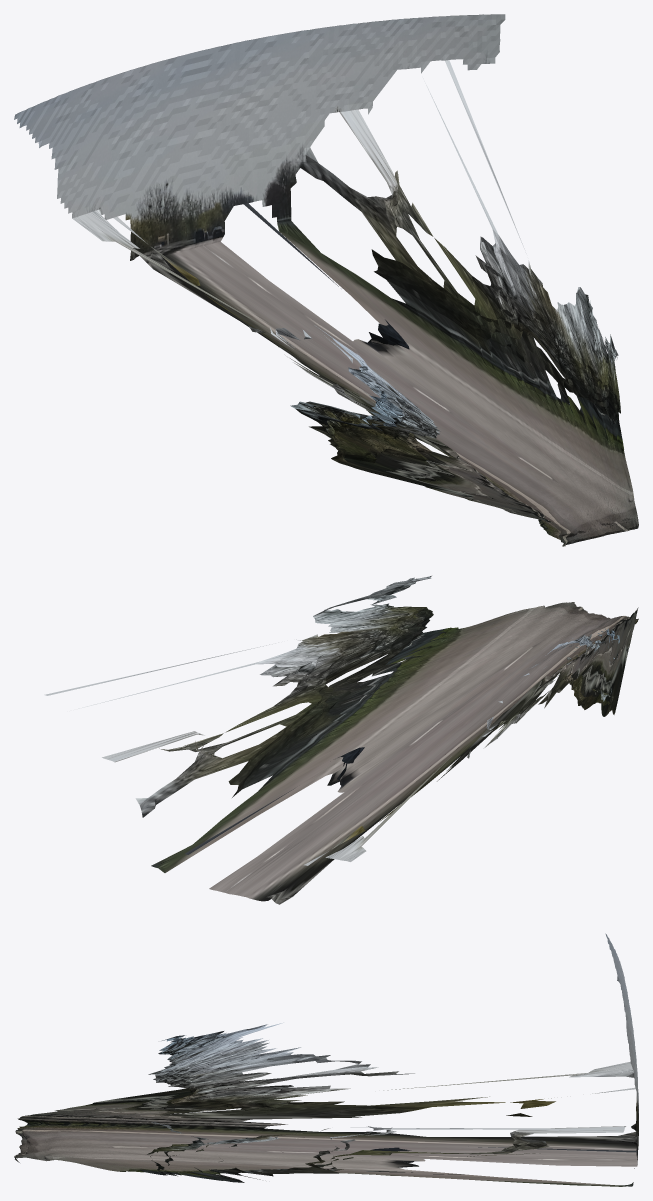
3 renders of one model, top to bottom at view 1: azimuth 30°, elevation 25°; view 2: azimuth 150°, elevation 25°; view 3: azimuth 270°, elevation 25°, orthographic. The views are drawn at different scales.
Visible parts, largest first — view 1: defaultobject; view 2: defaultobject; view 3: defaultobject.
Boxes of the visible parts, x1,y1,x2,y2 form: defaultobject: (14, 14, 638, 546); defaultobject: (44, 576, 638, 904); defaultobject: (14, 933, 638, 1186).
Size of the model in its own units: 29.76 by 12.11 by 44.63.
1 material, 1 textured.
